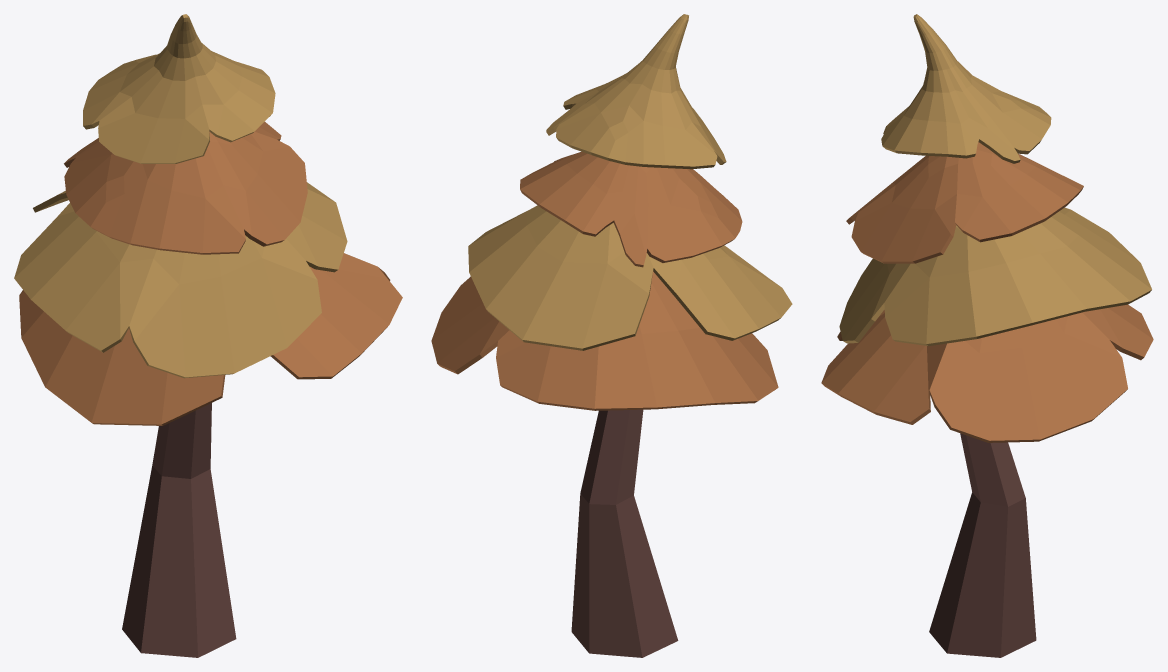
The model's file is PineTree_Autumn_5.gltf.
3 views of the same model, side by side, from view 1: azimuth 30°, elevation 25°; view 2: azimuth 150°, elevation 25°; view 3: azimuth 270°, elevation 25° (orthographic). The views are drawn at different scales.
Parts seen in each view (by area): view 1: PineTree_Autumn_5; view 2: PineTree_Autumn_5; view 3: PineTree_Autumn_5.
Part boxes in pixels (x1,y1,x2,y2): PineTree_Autumn_5: [14, 14, 402, 657]; PineTree_Autumn_5: [431, 14, 792, 657]; PineTree_Autumn_5: [821, 14, 1153, 657].
Bounding box in the file's own units: 1.47 × 2.69 × 1.34.
